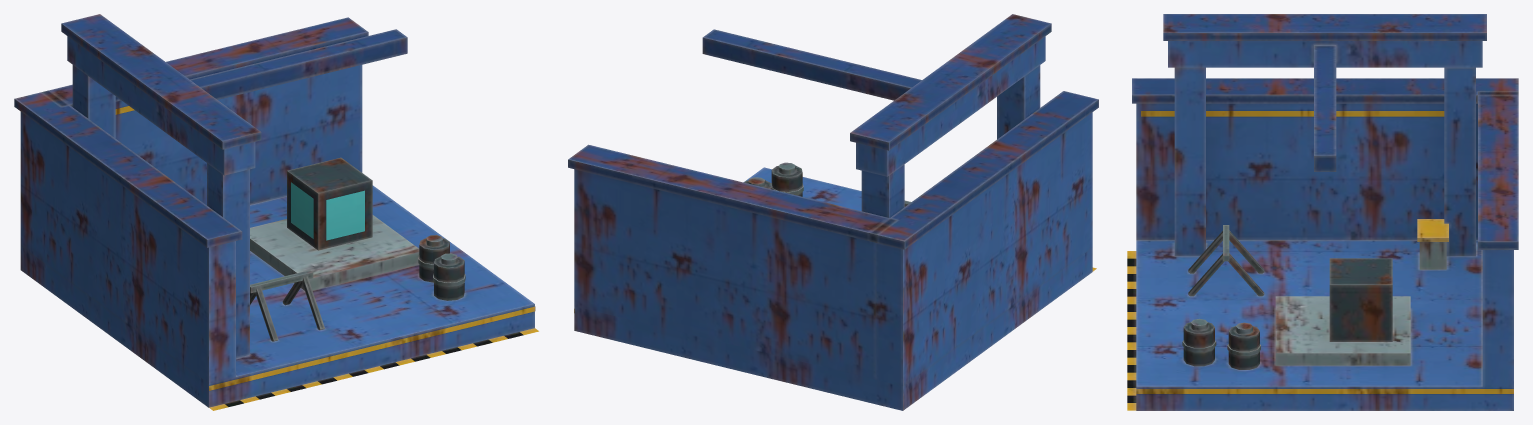
File: hull_forge.glb
The picture shows the model from 3 angles, left to right: view 1: azimuth 30°, elevation 25°; view 2: azimuth 150°, elevation 25°; view 3: azimuth 270°, elevation 25°; orthographic projection.
Visible parts, largest first — view 1: te_hull_forge; view 2: te_hull_forge; view 3: te_hull_forge.
Boxes of the visible parts, <box> form: te_hull_forge: <box>14,14,538,410</box>; te_hull_forge: <box>568,14,1098,410</box>; te_hull_forge: <box>1127,14,1518,410</box>.
Size of the model in its own units: 0.86 by 0.615 by 0.87.
Materials: 1 (1 with a texture image).
